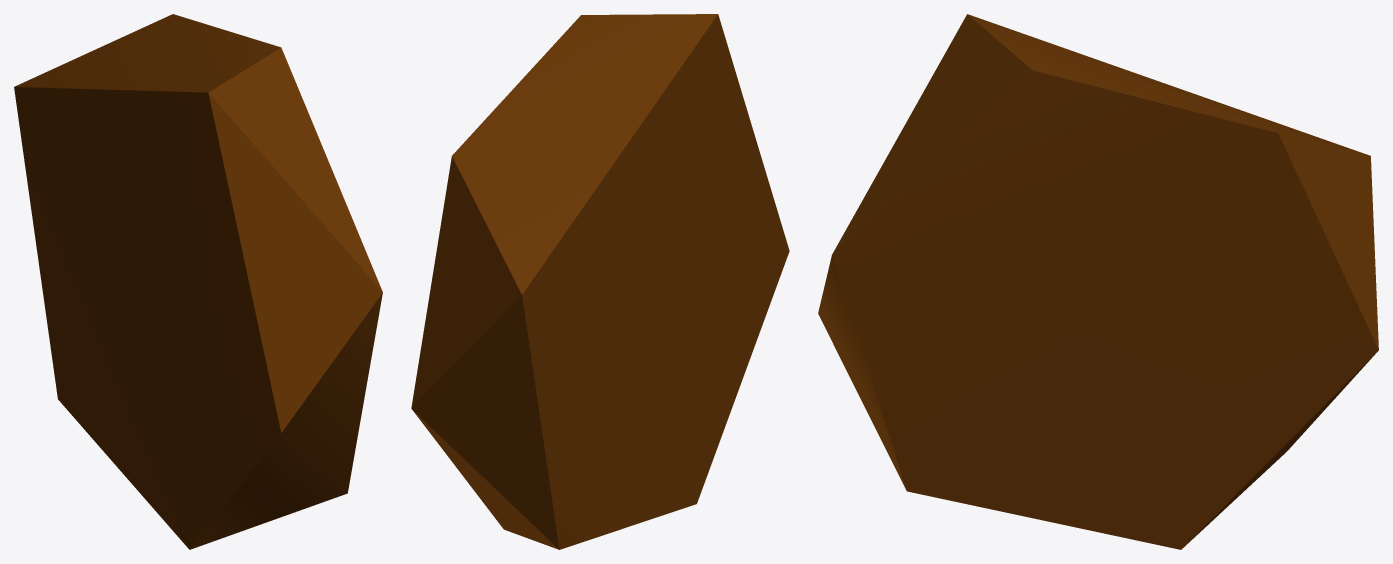
File: original-25.obj
3 renders of one model, left to right at view 1: azimuth 30°, elevation 25°; view 2: azimuth 150°, elevation 25°; view 3: azimuth 270°, elevation 25°, orthographic. The views are drawn at different scales.
Parts seen in each view (by area): view 1: mesh25/mesh25-geometry#mesh25-geometry; view 2: mesh25/mesh25-geometry#mesh25-geometry; view 3: mesh25/mesh25-geometry#mesh25-geometry.
Part boxes in pixels (x1,y1,x2,y2): mesh25/mesh25-geometry#mesh25-geometry: (14,14,382,549); mesh25/mesh25-geometry#mesh25-geometry: (411,14,789,549); mesh25/mesh25-geometry#mesh25-geometry: (818,14,1378,549).
Bounding box in the file's own units: 0.0198 × 0.078 × 0.081.
